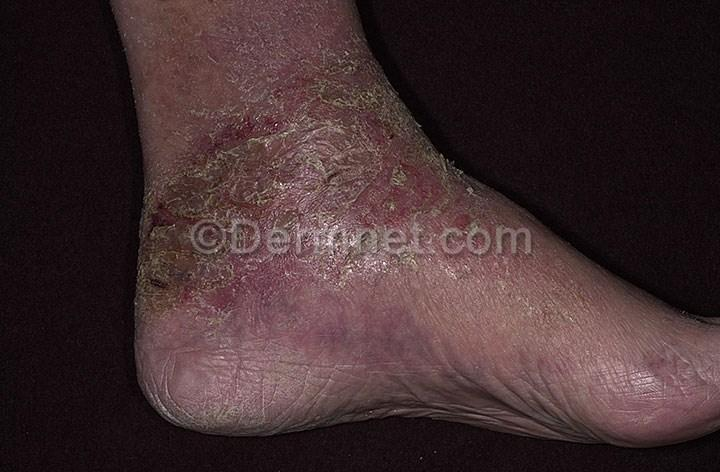Eczema: (311, 54, 461, 237), (397, 263, 568, 403), (146, 92, 305, 226), (256, 255, 414, 376), (573, 312, 695, 432), (138, 252, 249, 359)
